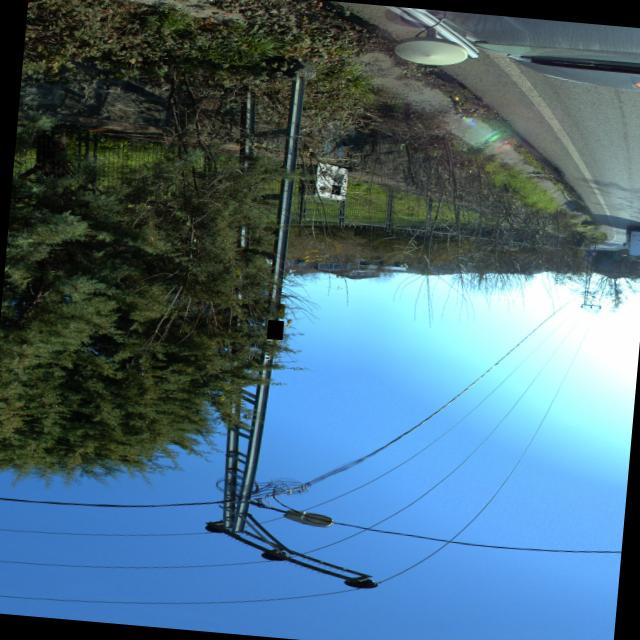Utility Pole Information Plate: (265, 320, 283, 337)
